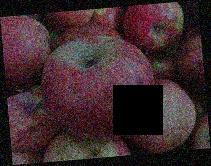rotten apple: (44, 36, 160, 136), (9, 90, 58, 150), (41, 128, 131, 159)
